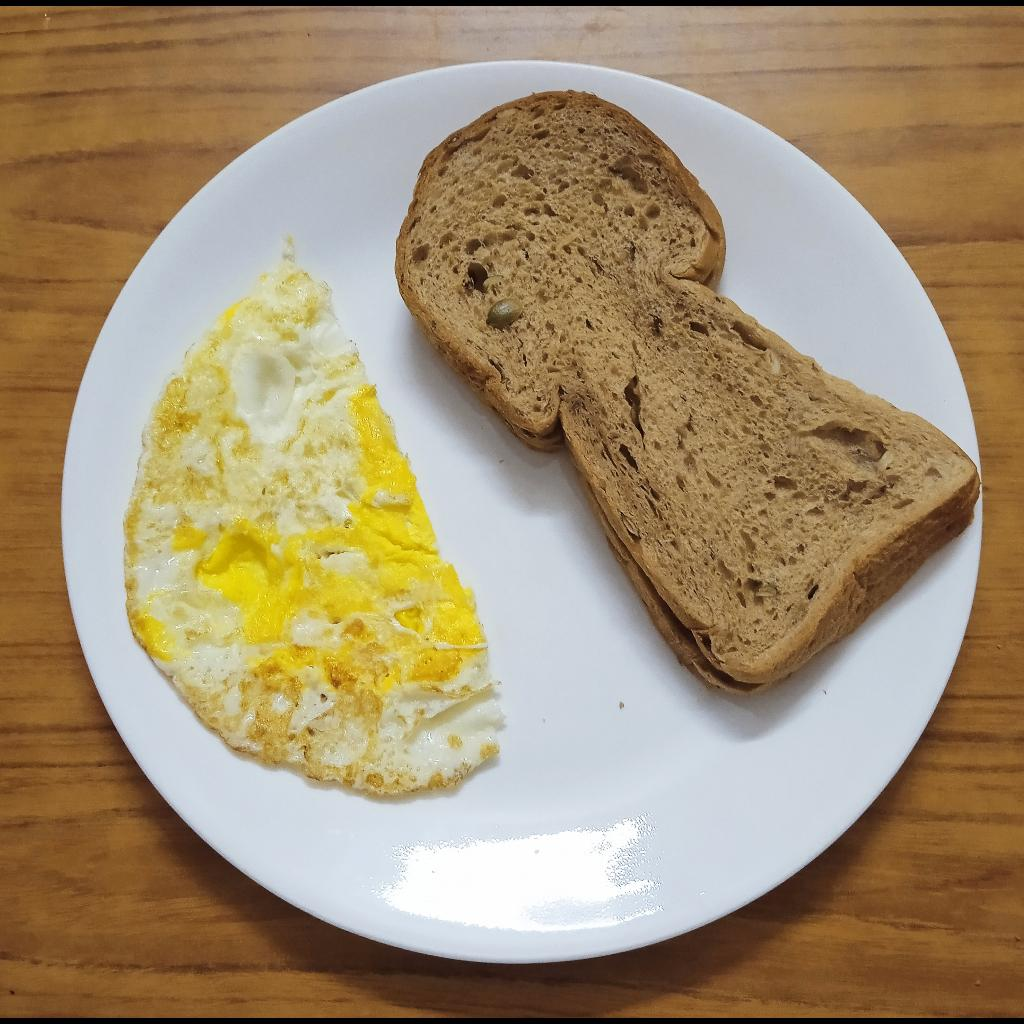bread: (396, 89, 980, 699)
egg-poached: (122, 263, 506, 801)
